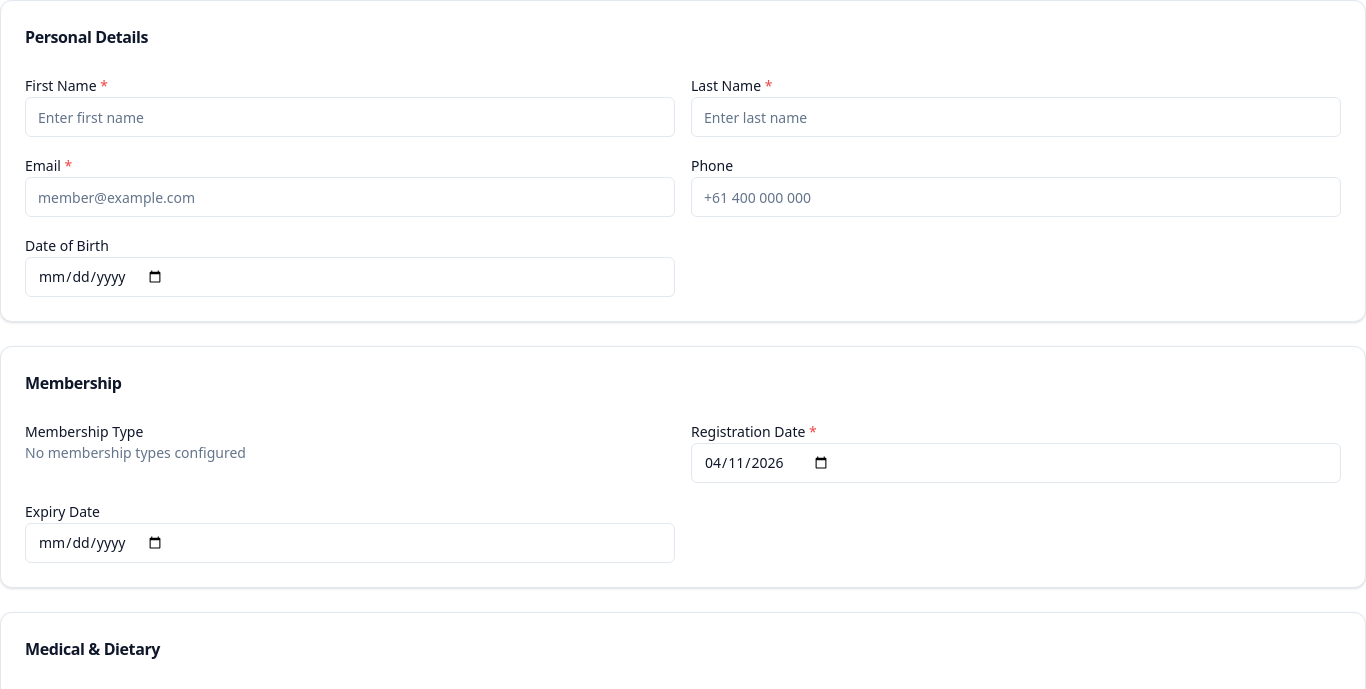
Test: MemberForm › validation › shows validation error for invalid email
Type "Jane" into the field labelled "First Name *" at (350, 117), box [25, 97, 675, 137]
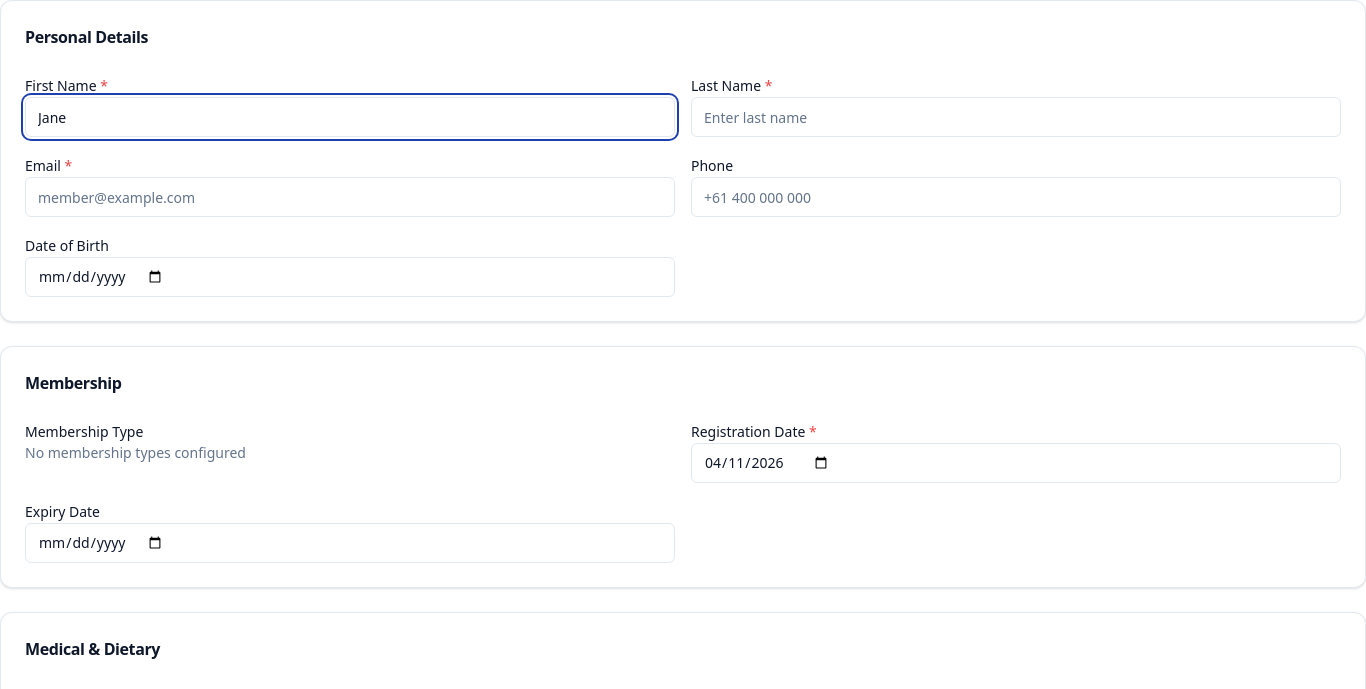
Type "Doe" into the field labelled "Last Name *" at (1016, 117), box [691, 97, 1341, 137]
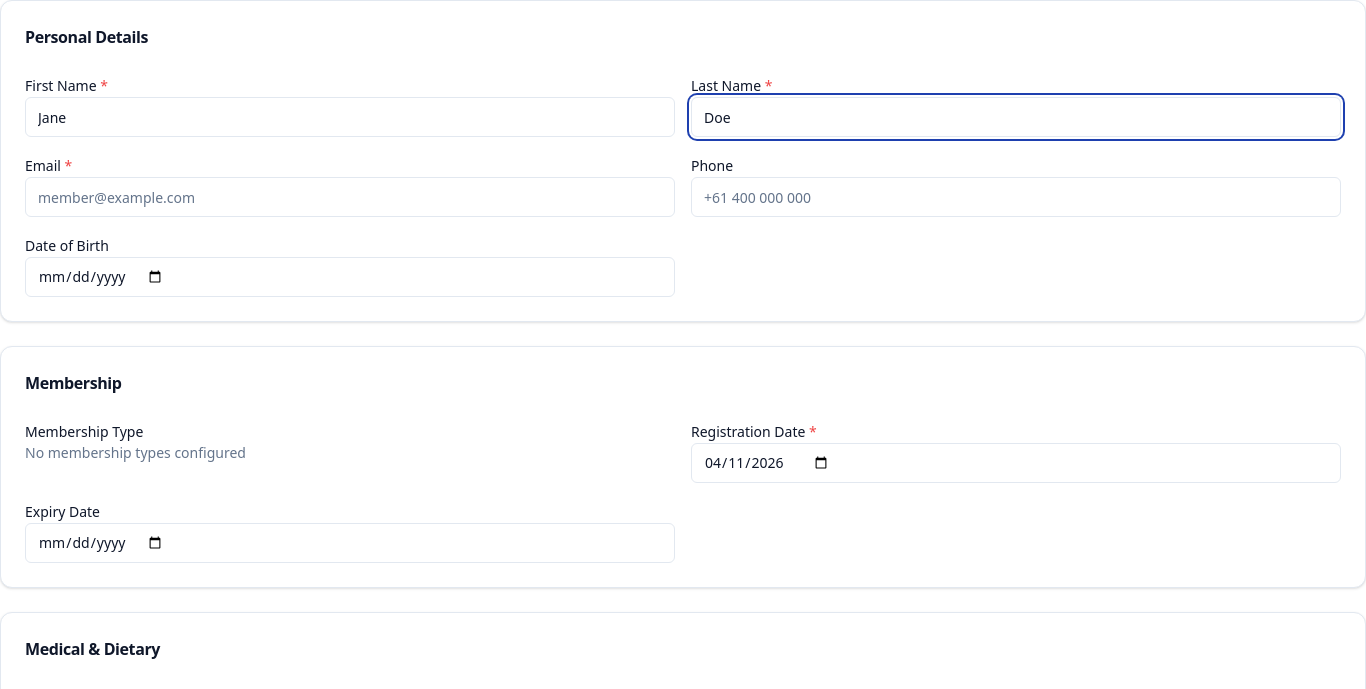
Type "not-an-email" into the field labelled "Email *" at (350, 197), box [25, 177, 675, 217]
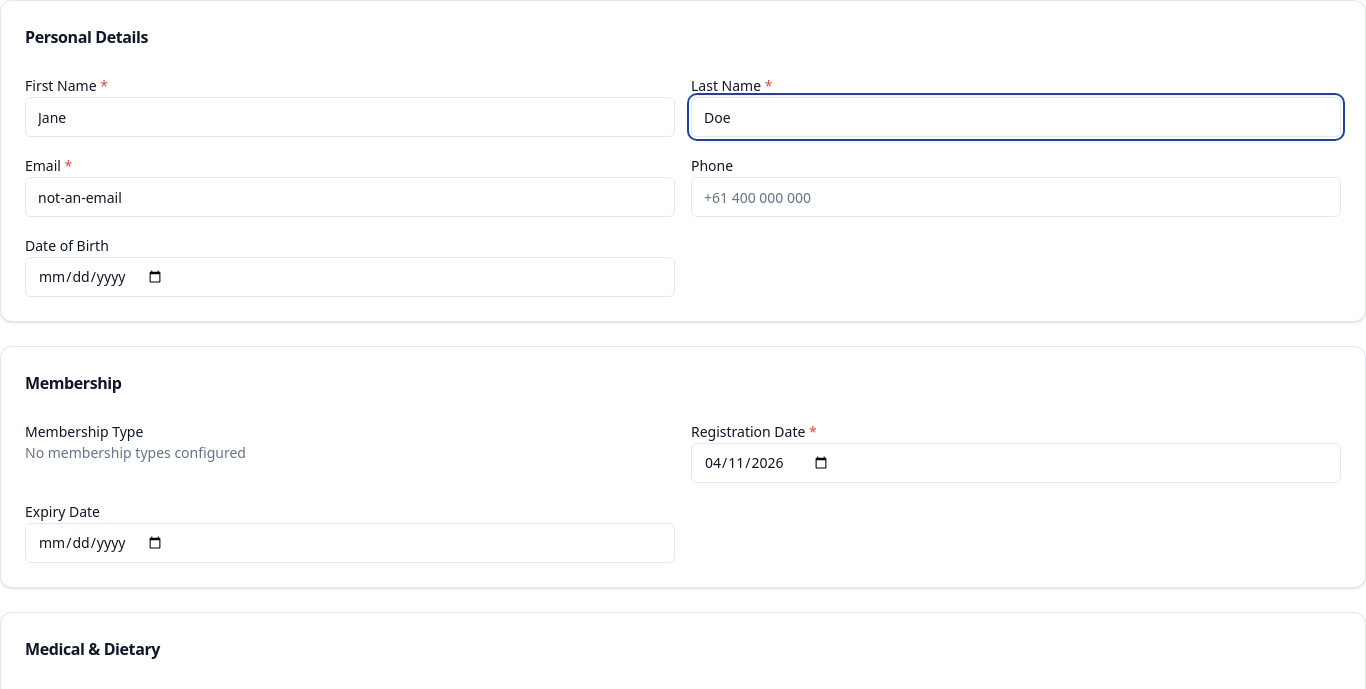
Type "2024-01-15" into the date field labelled "Registration Date *" at (1016, 463), box [691, 443, 1341, 483]
(page scrolled)
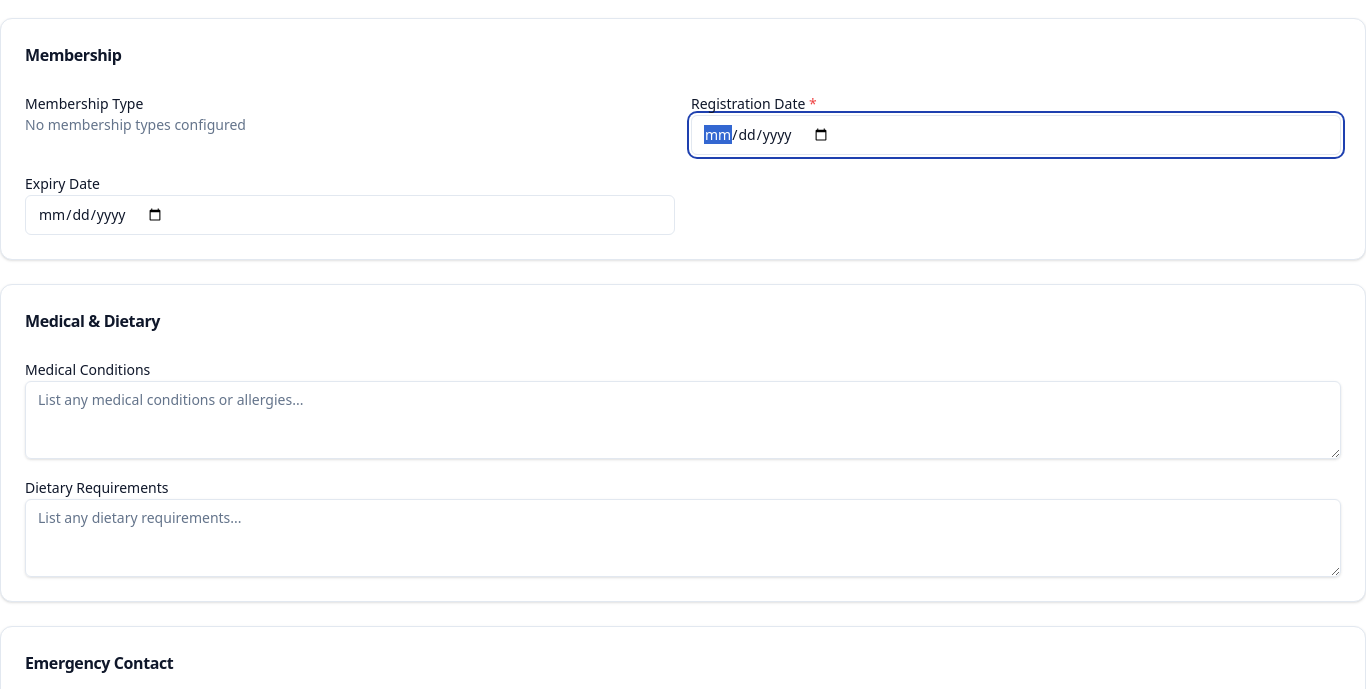
Submit the form named "add member"
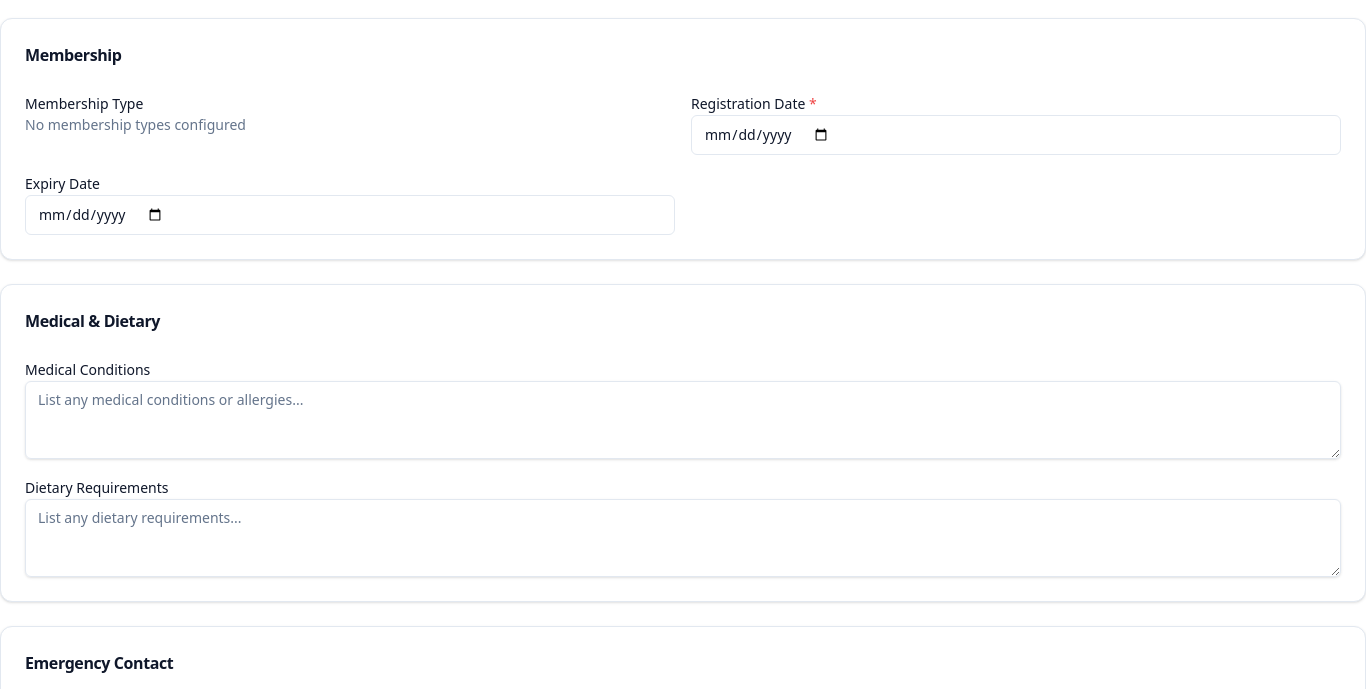
Clear the date field labelled "Registration Date *" at (1016, 135), box [691, 115, 1341, 155]
(page scrolled)
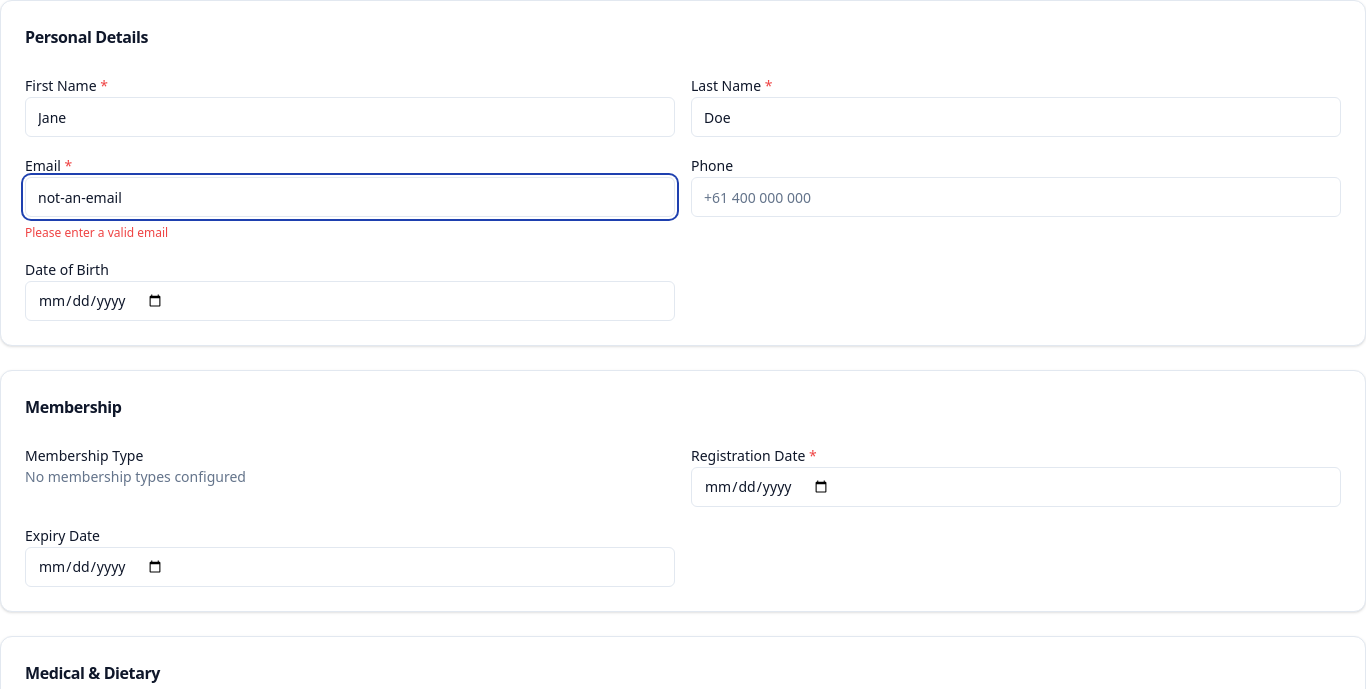
Check: the text "Please enter a valid email" is shown, box [25, 224, 168, 241]
